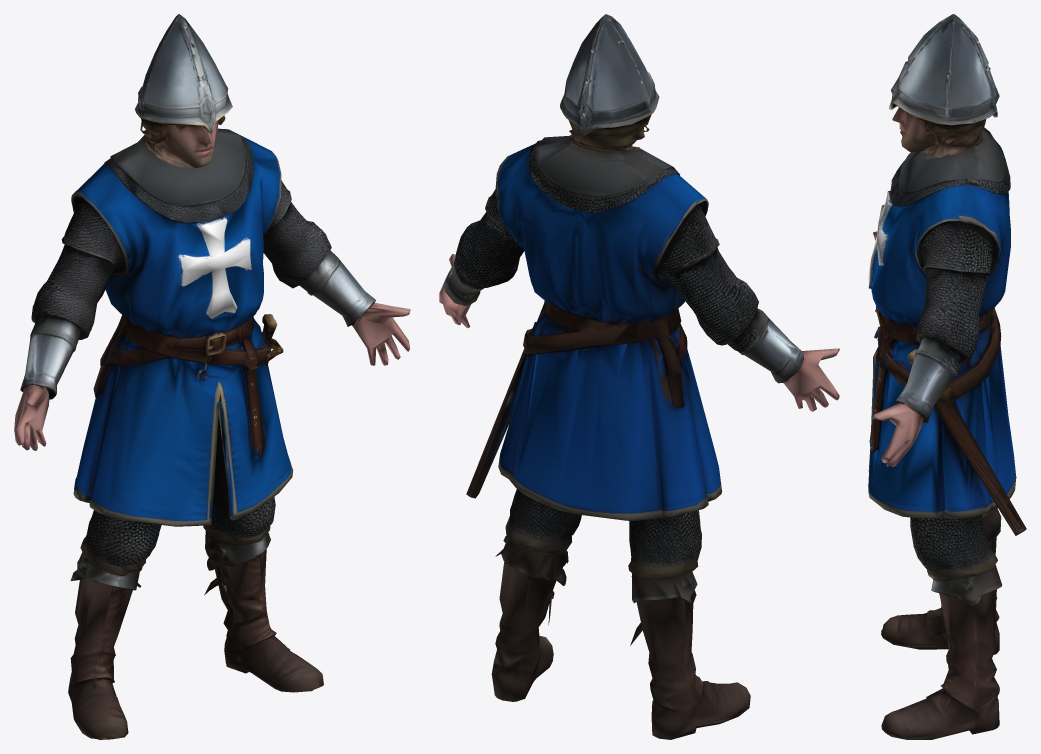
File: hum_inf.glb
The picture shows the model from 3 angles, left to right: view 1: azimuth 30°, elevation 25°; view 2: azimuth 150°, elevation 25°; view 3: azimuth 270°, elevation 25°; orthographic projection. The views are drawn at different scales.
Parts seen in each view (by area): view 1: node_0; view 2: node_0; view 3: node_0.
Part boxes in pixels (bbox=[...]): node_0: bbox=[14, 14, 410, 739]; node_0: bbox=[439, 14, 839, 739]; node_0: bbox=[868, 14, 1026, 739].
Bounding box in the file's own units: 0.6848 × 1.13 × 0.2417.
1 material, 1 textured.
